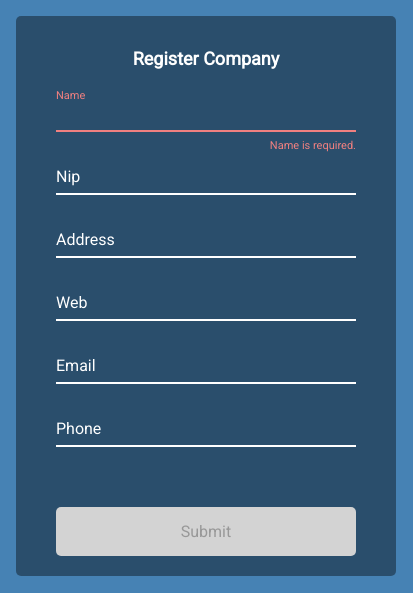
Scenario: Testing Form Company › Nip should have 9 numbers
This screenshot has width=413, height=593.
Type "1123" into the field with test id "nip-input".
click(206, 174); type("1123")  # box [56, 152, 356, 195]
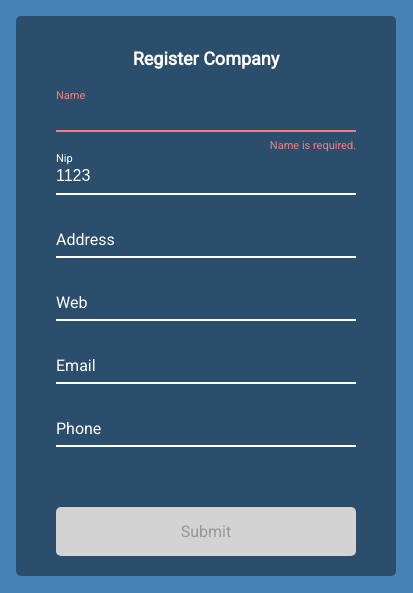
Leave the field with test id "nip-input", box [56, 152, 356, 195]
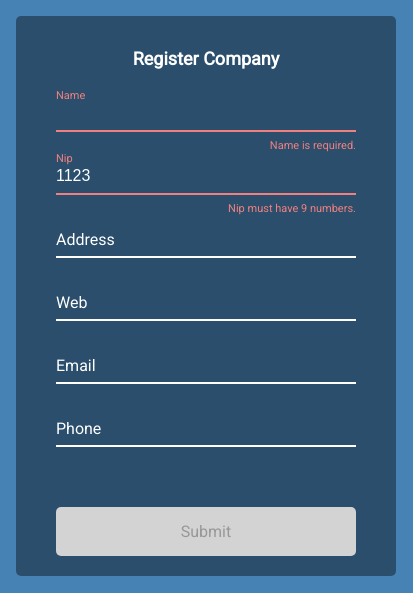
Expected: the text "Nip must have 9 numbers." is shown, [228, 202, 356, 215]
